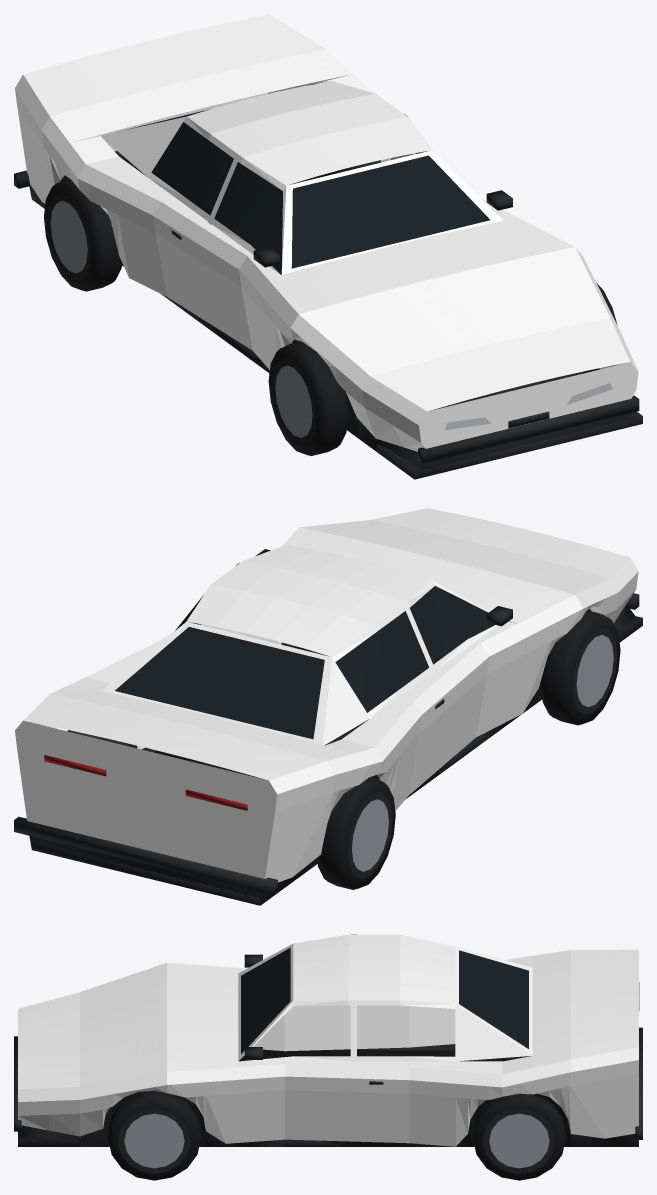
The model's file is keldorf_rubi.glb.
The picture shows the model from 3 angles, top to bottom: view 1: azimuth 30°, elevation 25°; view 2: azimuth 150°, elevation 25°; view 3: azimuth 270°, elevation 25°; orthographic projection. The views are drawn at different scales.
Visible parts, largest first — view 1: Body_Paint, Body_Details, Mount_FrontLeft_Wheel_Details, Mount_RearLeft_Wheel_Details; view 2: Body_Paint, Body_Details, Mount_FrontLeft_Wheel_Details, Mount_RearLeft_Wheel_Details; view 3: Body_Paint, Body_Details, Mount_FrontRight_Wheel_Details, Mount_RearRight_Wheel_Details.
Boxes of the visible parts, x1=… form: Body_Paint: x1=15, y1=14, x2=638, y2=451; Body_Details: x1=14, y1=83, x2=642, y2=479; Mount_FrontLeft_Wheel_Details: x1=268, y1=341, x2=348, y2=455; Mount_RearLeft_Wheel_Details: x1=44, y1=178, x2=122, y2=291; Body_Paint: x1=15, y1=508, x2=638, y2=882; Body_Details: x1=14, y1=549, x2=642, y2=905; Mount_FrontLeft_Wheel_Details: x1=540, y1=610, x2=620, y2=725; Mount_RearLeft_Wheel_Details: x1=317, y1=777, x2=395, y2=889; Body_Paint: x1=18, y1=934, x2=638, y2=1146; Body_Details: x1=14, y1=947, x2=642, y2=1146; Mount_FrontRight_Wheel_Details: x1=108, y1=1091, x2=200, y2=1180; Mount_RearRight_Wheel_Details: x1=473, y1=1093, x2=565, y2=1180.
Size of the model in its own units: 2.03 by 1.24 by 4.47.
Materials: 2 (1 with a texture image).
